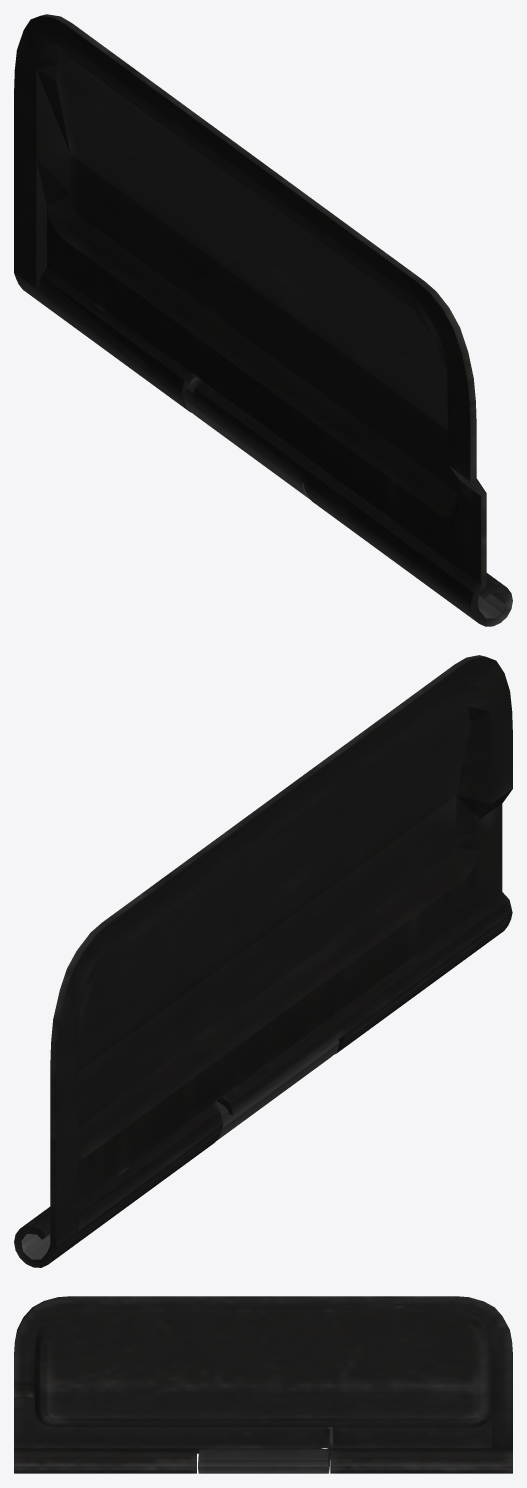
The picture shows the model from 3 angles, top to bottom: view 1: azimuth 30°, elevation 25°; view 2: azimuth 150°, elevation 25°; view 3: azimuth 270°, elevation 25°; orthographic projection. The views are drawn at different scales.
Visible parts, largest first — view 1: TW_64ca3d3954fc657e230529cc_PZ_Import; view 2: TW_64ca3d3954fc657e230529cc_PZ_Import; view 3: TW_64ca3d3954fc657e230529cc_PZ_Import.
Boxes of the visible parts, <box> form: TW_64ca3d3954fc657e230529cc_PZ_Import: <box>14,14,512,626</box>; TW_64ca3d3954fc657e230529cc_PZ_Import: <box>14,655,512,1267</box>; TW_64ca3d3954fc657e230529cc_PZ_Import: <box>14,1296,512,1473</box>.
Size of the model in its own units: 0.00287 by 0.0529 by 0.0199.
1 material, 1 textured.
